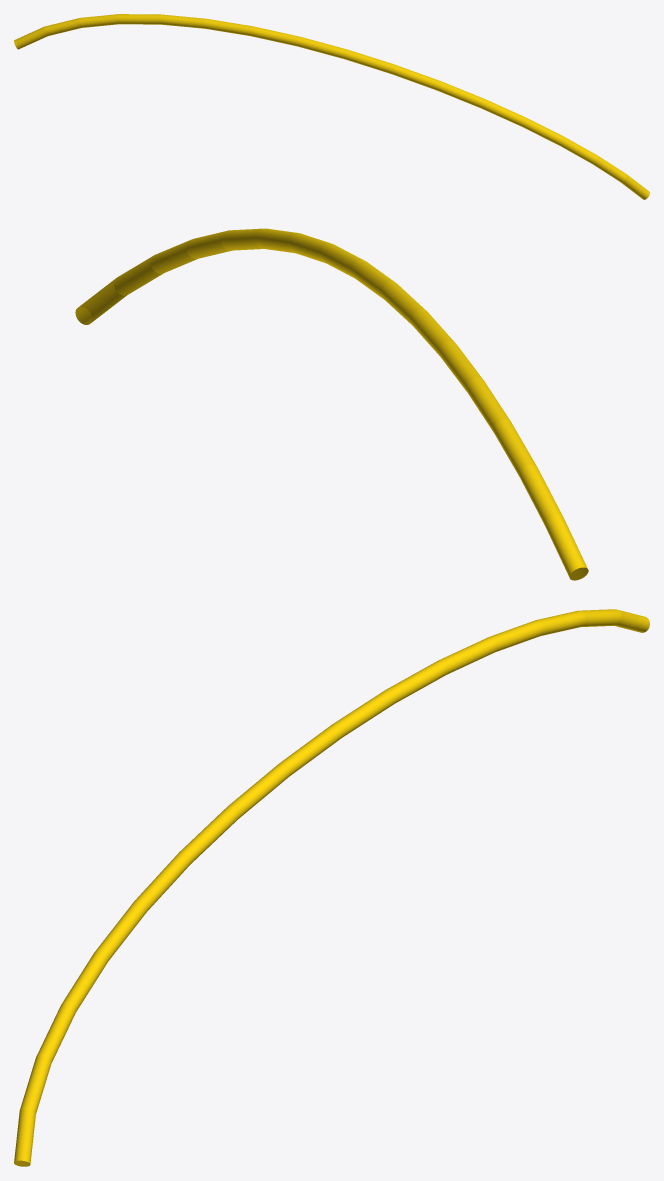
The model's file is Event_421364160_track_26.fbx.
3 views of the same model, one above another, from view 1: azimuth 30°, elevation 25°; view 2: azimuth 150°, elevation 25°; view 3: azimuth 270°, elevation 25° (orthographic). The views are drawn at different scales.
Visible parts, largest first — view 1: Model; view 2: Model; view 3: Model.
Part boxes in pixels (box(x1,y1,x2,y2)): Model: box(14, 14, 649, 199); Model: box(75, 228, 588, 580); Model: box(14, 609, 649, 1166).
Size of the model in its own units: 2 by 0.6934 by 1.53.
